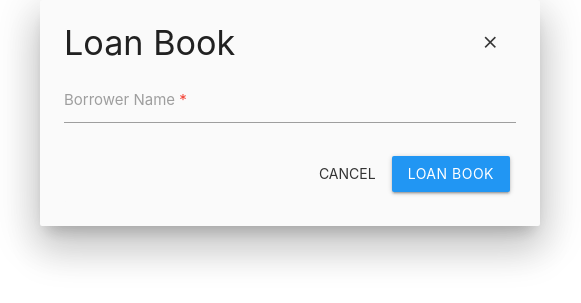
Scenario: LoanBookModal Component › should clear error when user starts typing
# Try to submit with empty field to trigger error
Submit the form "Borrower Name * Cancel Loan Book", box left=64, top=77, right=516, bottom=202
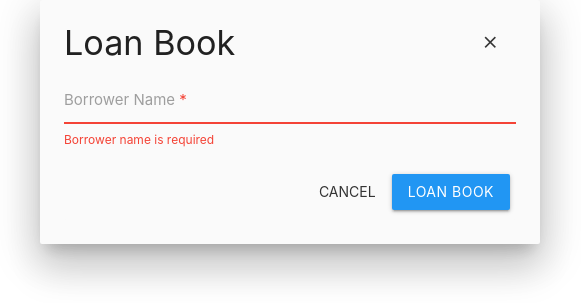
Expected: the text "Borrower name is required" is shown, left=64, top=132, right=214, bottom=147
# Start typing
Type "J" into the field labelled "Borrower Name *" at (290,100), box left=64, top=77, right=516, bottom=123
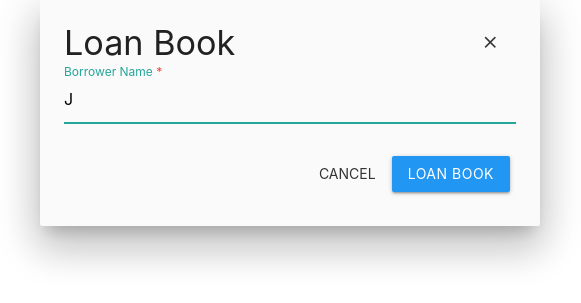
Expected: the text "Borrower name is required" is gone
